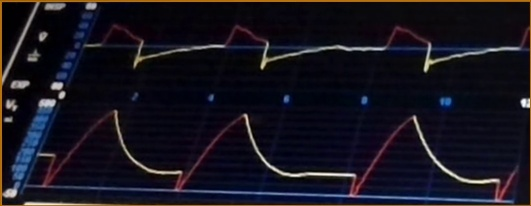Flow: (84, 15, 531, 82)
Leakage Volume: (38, 107, 516, 204)
